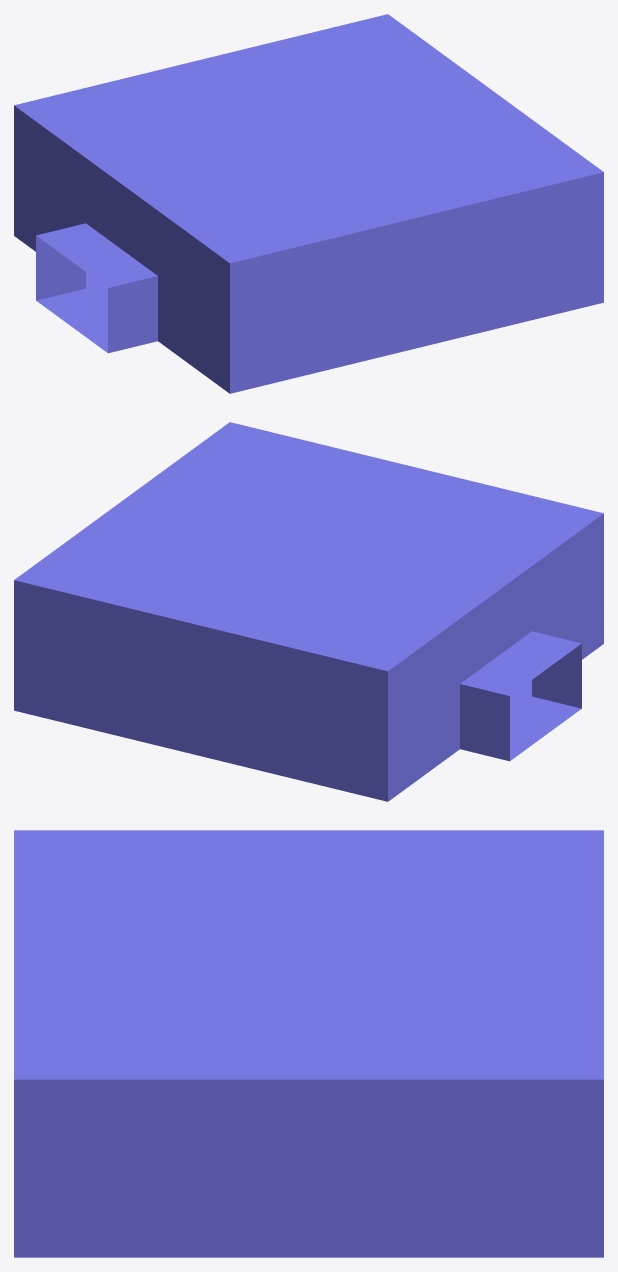
File: sideRoom.fbx
3 renders of one model, top to bottom at view 1: azimuth 30°, elevation 25°; view 2: azimuth 150°, elevation 25°; view 3: azimuth 270°, elevation 25°, orthographic. The views are drawn at different scales.
Visible parts, largest first — view 1: pPlane14; view 2: pPlane14; view 3: pPlane14.
Boxes of the visible parts, x1,y1,x2,y2 form: pPlane14: [14, 14, 603, 393]; pPlane14: [14, 422, 603, 801]; pPlane14: [14, 830, 603, 1257].
Size of the model in its own units: 1700 by 500 by 1500.
